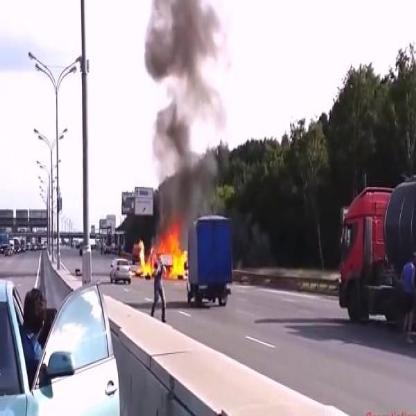fire: (137, 226, 187, 277)
